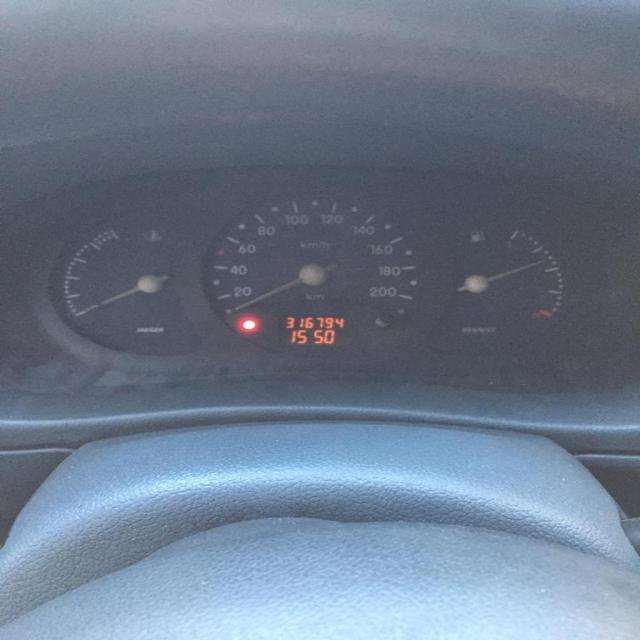odometer: (272, 313, 354, 351)
